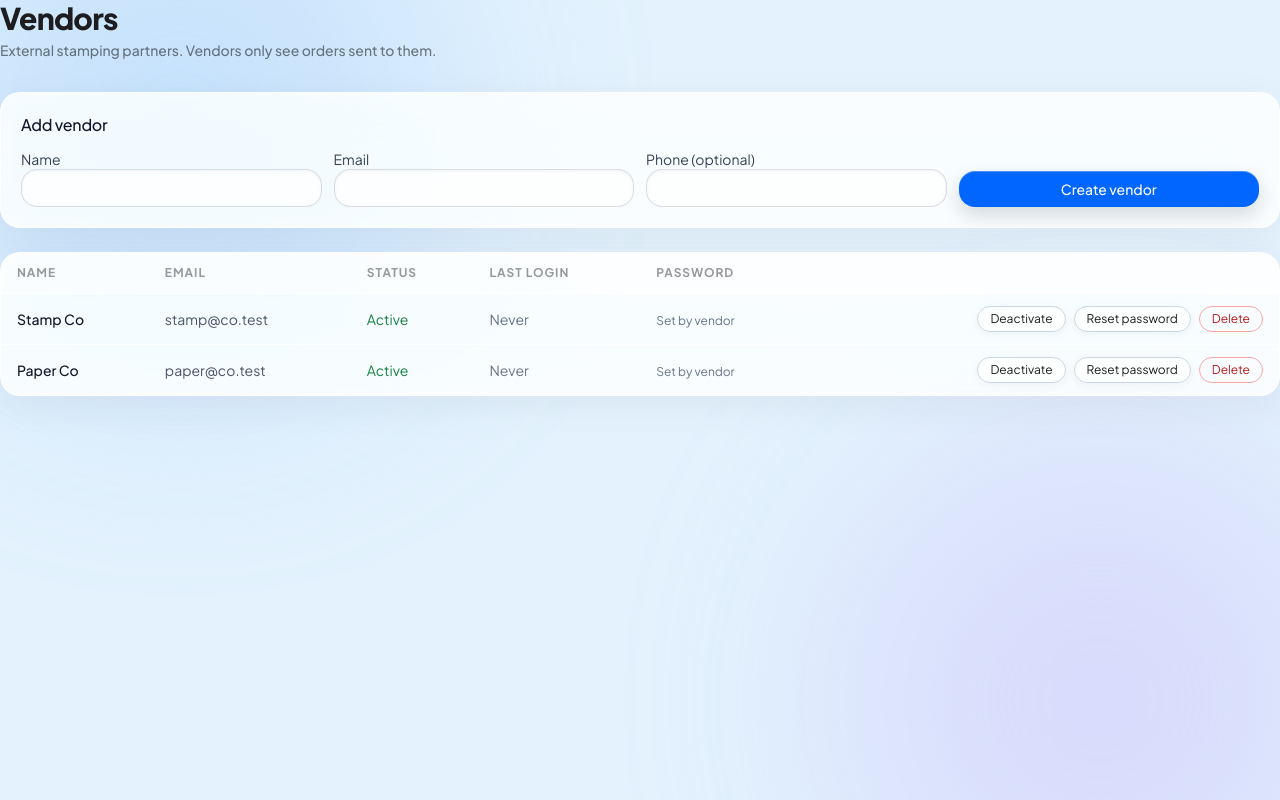
Test: Delete vendor › deletes on the matching email and removes the row
Click the button with aria-label "Delete Stamp Co". click: x=1231, y=319
box: [1199, 306, 1263, 332]
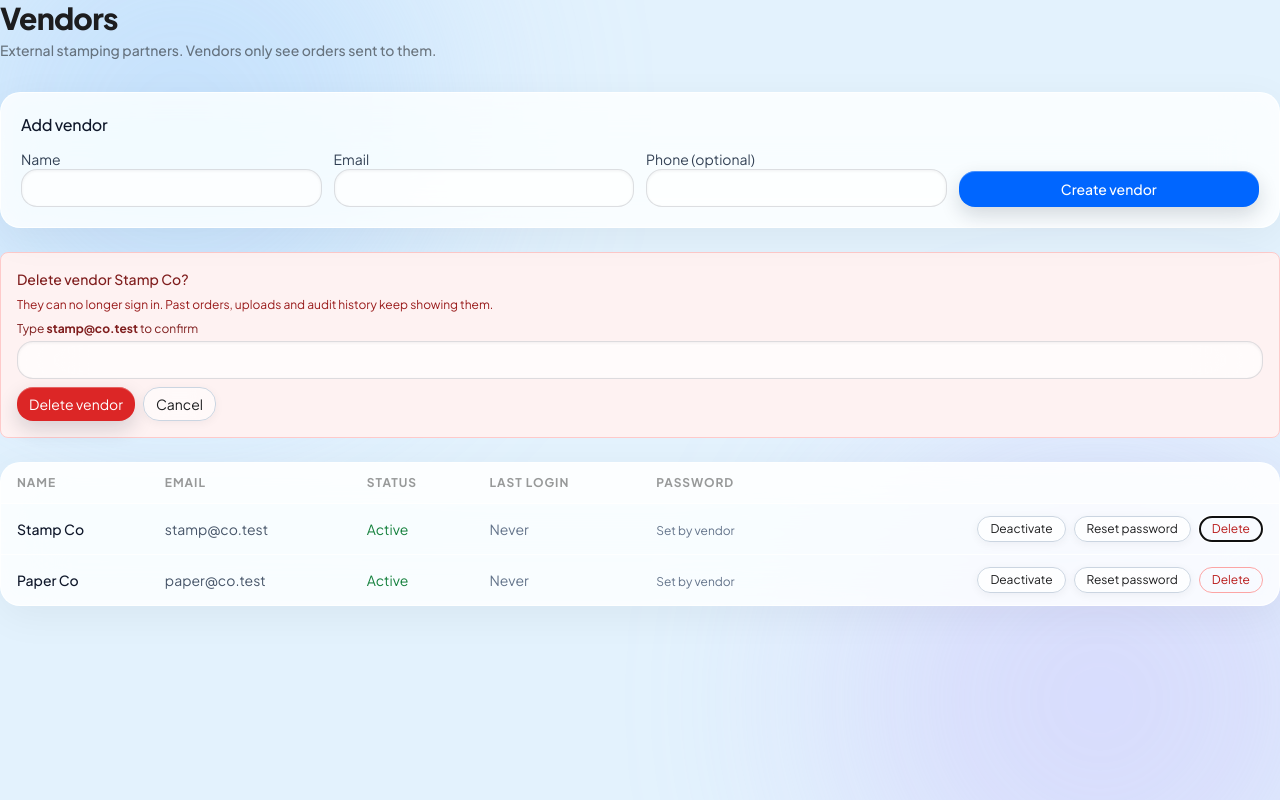
Type "STAMP@co.test" into the field named "Vendor email to confirm". click: x=640, y=360
box: [17, 341, 1263, 379]
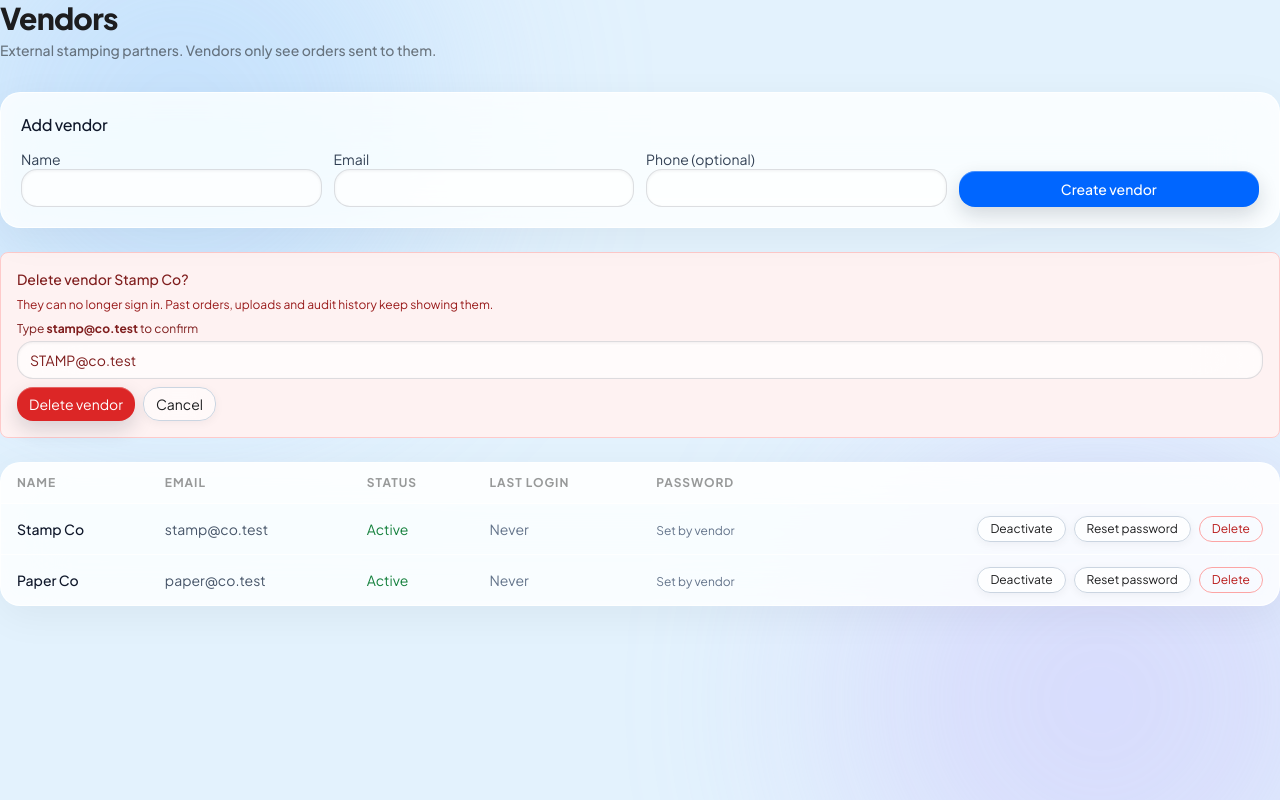
Click the button "Delete vendor". click: x=76, y=404
box: [17, 387, 135, 421]
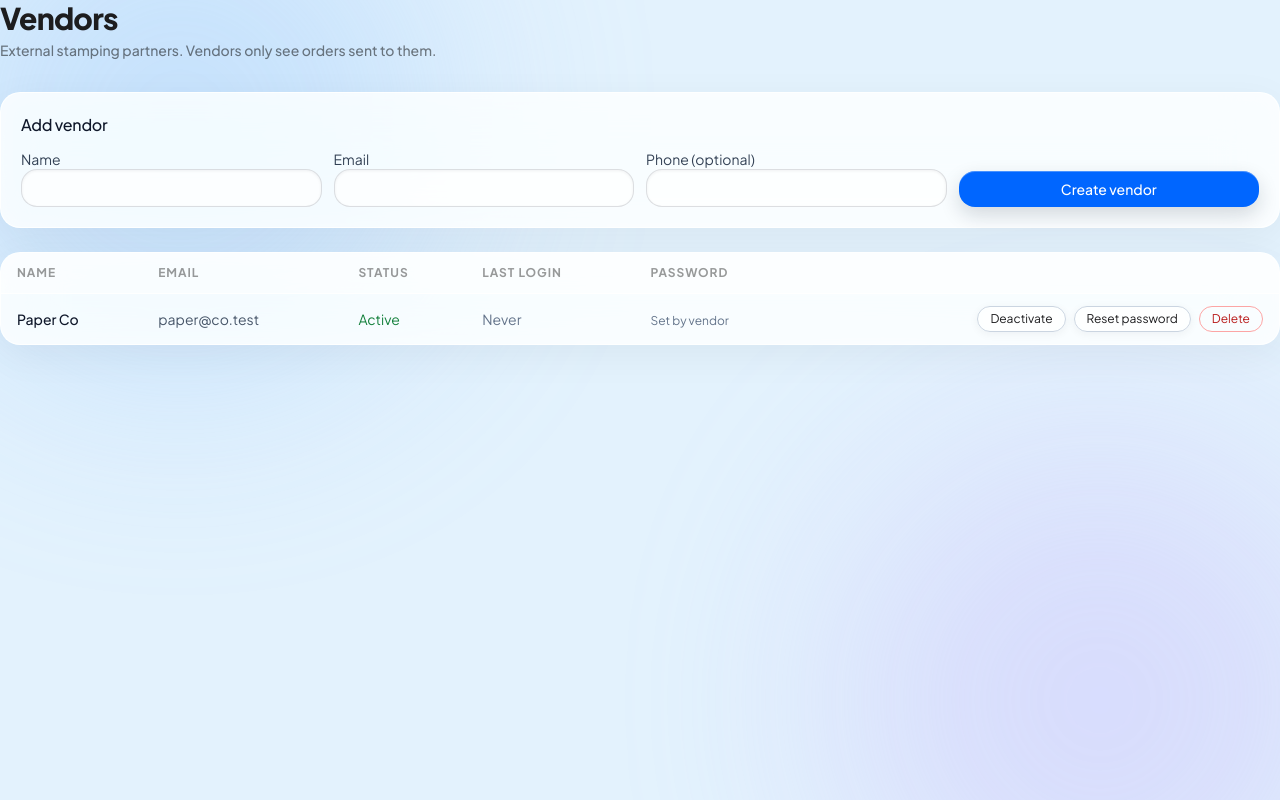
Expected: the text "Paper Co" is shown, [1, 294, 142, 344]
Expected: the text "Stamp Co" is gone
Expected: the dialog is gone
